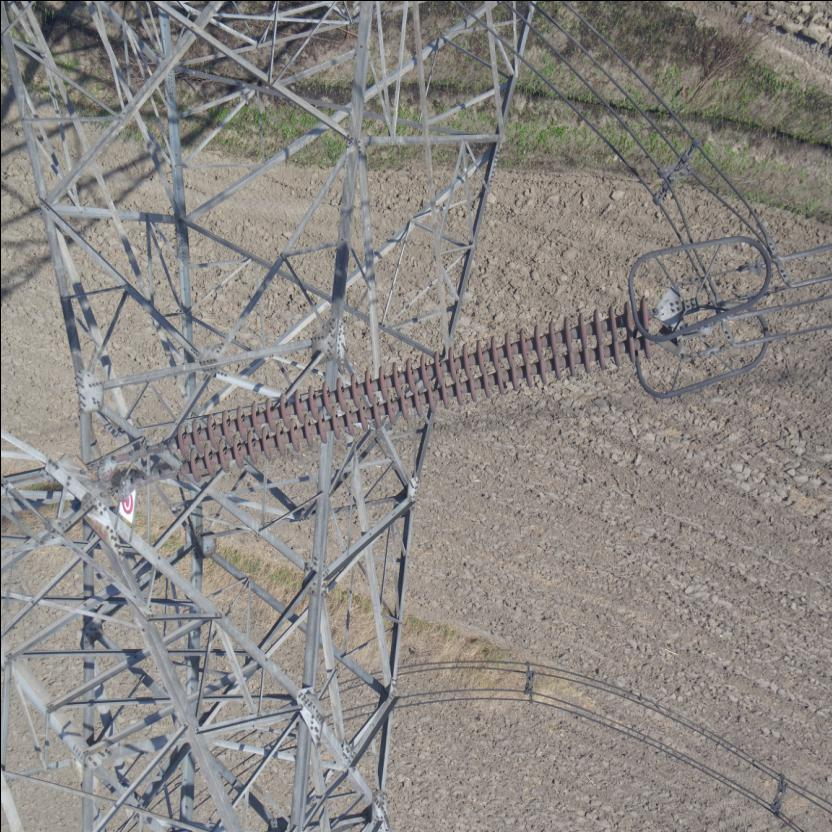insulator: (136, 286, 668, 488)
